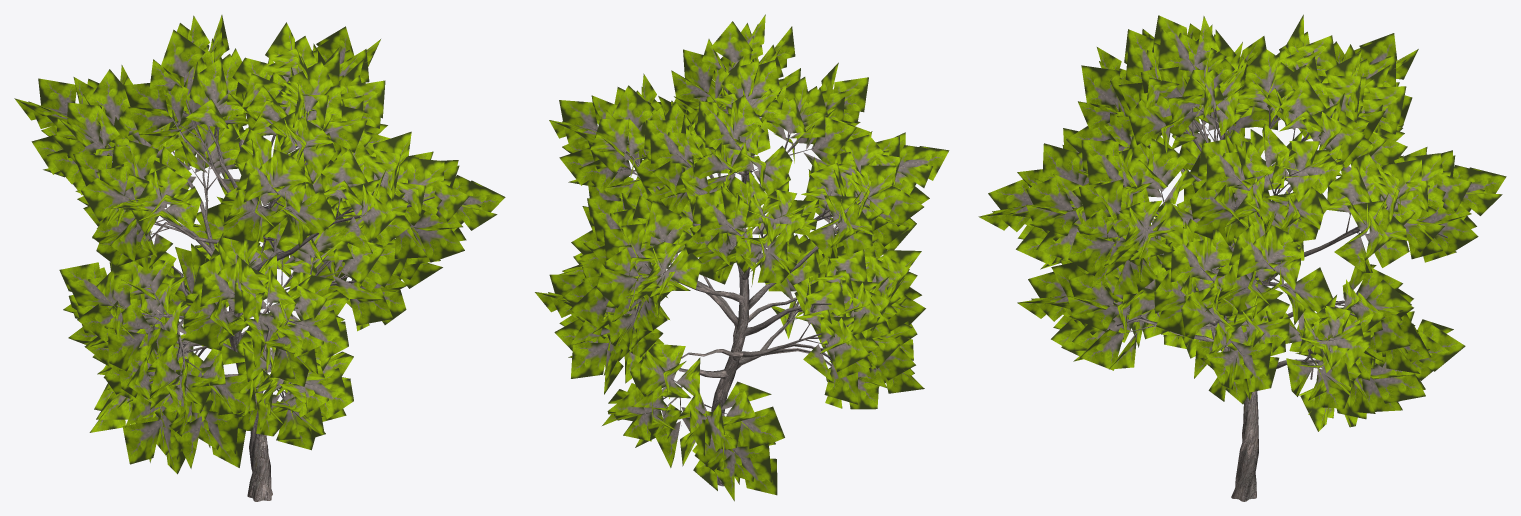
The model's file is oak.glb.
3 views of the same model, side by side, from view 1: azimuth 30°, elevation 25°; view 2: azimuth 150°, elevation 25°; view 3: azimuth 270°, elevation 25° (orthographic). The views are drawn at different scales.
Visible parts, largest first — view 1: tree.001; view 2: tree.001; view 3: tree.001.
Part boxes in pixels (x1=…): tree.001: x1=14, y1=15, x2=505, y2=501; tree.001: x1=535, y1=14, x2=949, y2=501; tree.001: x1=978, y1=14, x2=1506, y2=501.
Bounding box in the file's own units: 223 × 272 × 270.
Materials: 2 (2 with a texture image).
